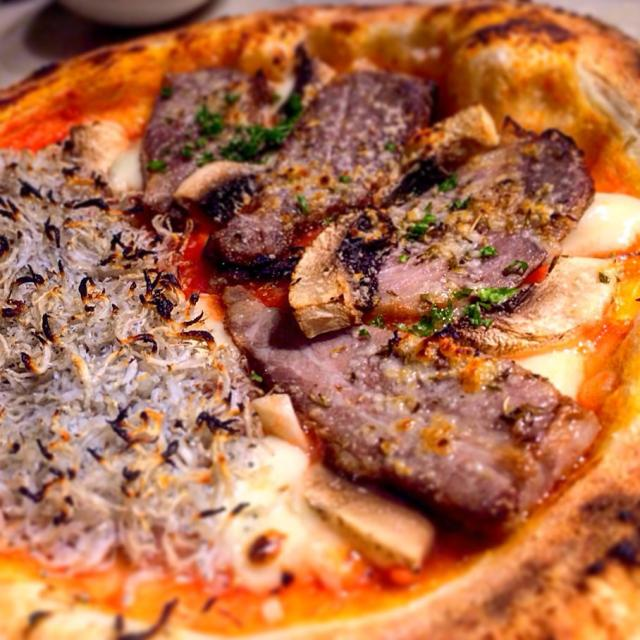mushrooms: (286, 205, 398, 340), (382, 103, 501, 198), (172, 160, 274, 228), (452, 320, 566, 354), (61, 121, 129, 177)
pizza: (0, 0, 640, 640)
